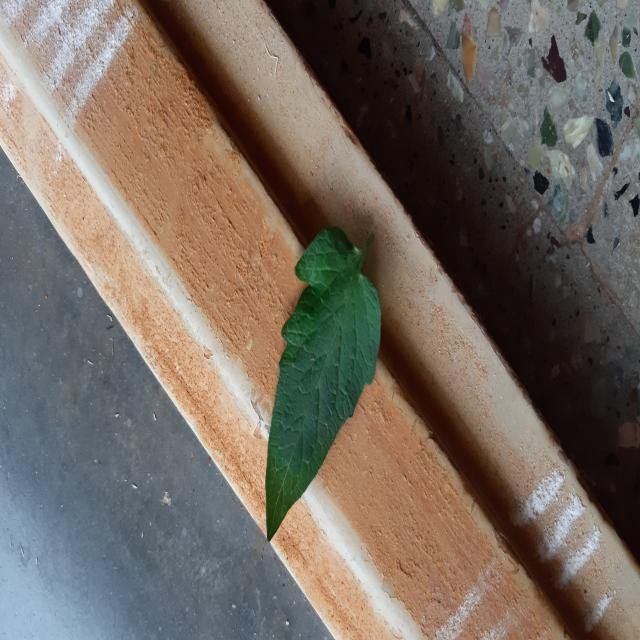tomato: (265, 227, 381, 540)
